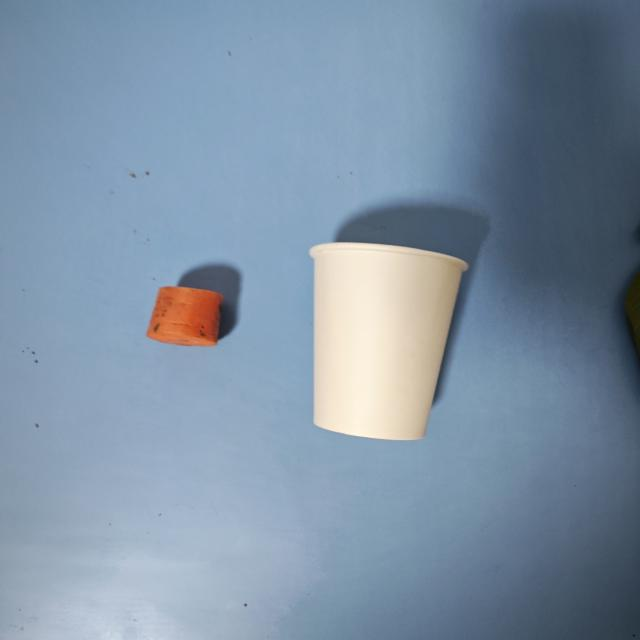-Kitchen waste - carrot-: (139, 279, 229, 351)
-Recyclables - paper cup-: (307, 237, 468, 443)
